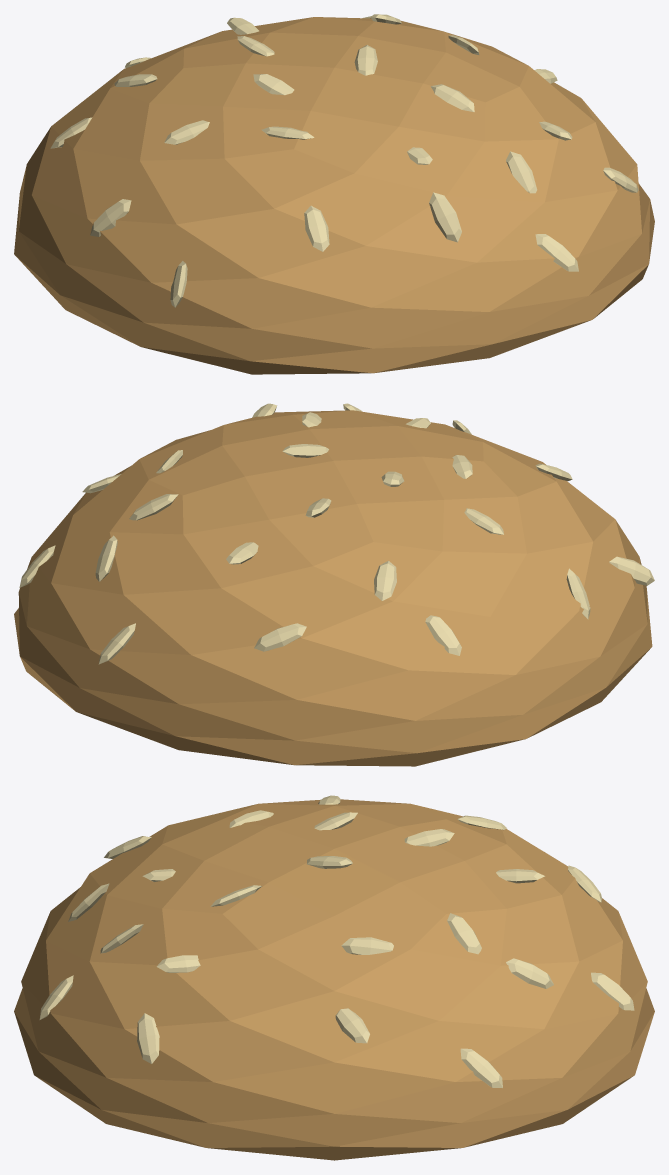
The model's file is pan_arriba.fbx.
The picture shows the model from 3 angles, top to bottom: view 1: azimuth 30°, elevation 25°; view 2: azimuth 150°, elevation 25°; view 3: azimuth 270°, elevation 25°; orthographic projection.
Parts seen in each view (by area): view 1: Pan arriba, semillas; view 2: Pan arriba, semillas; view 3: Pan arriba, semillas.
Part boxes in pixels (<box>): Pan arriba: <box>14,17,654,374</box>; semillas: <box>50,14,638,307</box>; Pan arriba: <box>14,410,652,766</box>; semillas: <box>19,403,654,664</box>; Pan arriba: <box>14,799,654,1160</box>; semillas: <box>39,795,634,1087</box>.
Size of the model in its own units: 1.86 by 0.6249 by 1.86.
